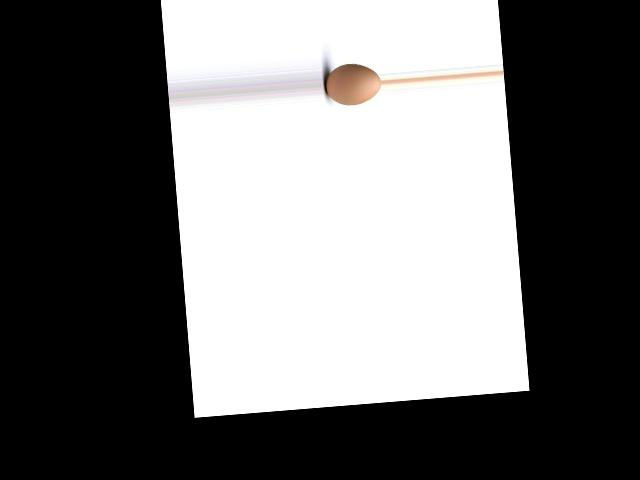egg: (323, 62, 382, 107)
